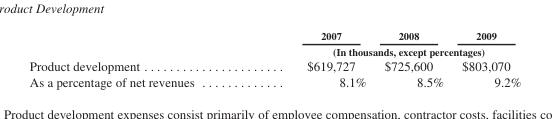table: (28, 29, 520, 88)
table column: (28, 29, 249, 88), (249, 29, 374, 88), (374, 29, 452, 88), (452, 29, 520, 88)
table column header: (28, 29, 520, 57)
table row: (28, 57, 520, 73), (28, 73, 520, 88), (28, 29, 520, 43), (28, 43, 520, 57)
table spanning cell: (249, 43, 520, 57)
